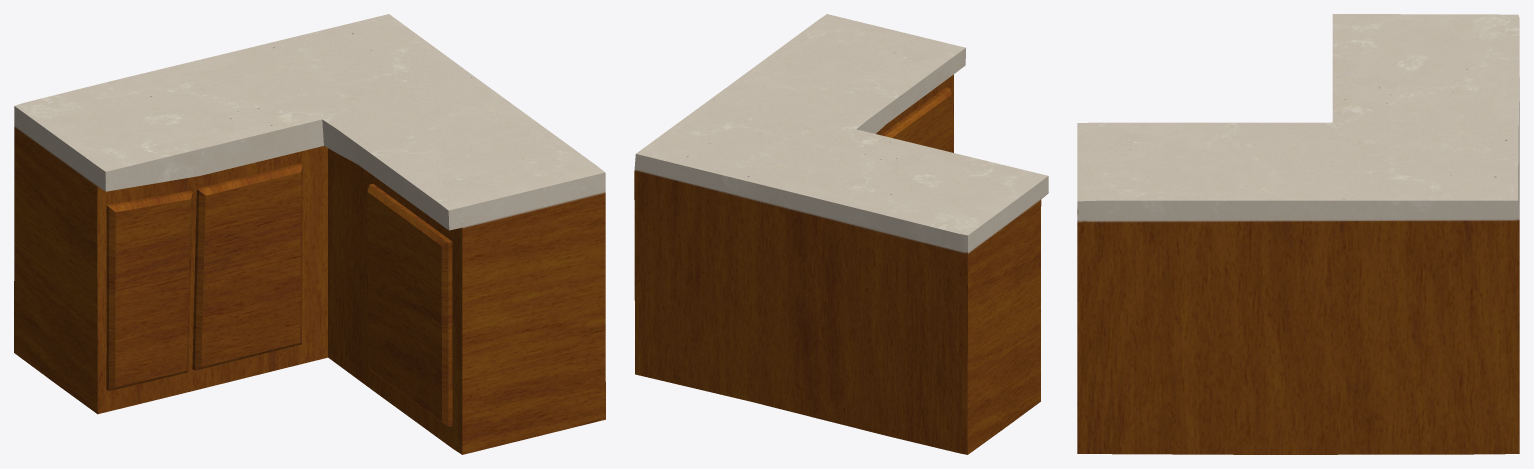
File: Counter7.fbx
3 renders of one model, left to right at view 1: azimuth 30°, elevation 25°; view 2: azimuth 150°, elevation 25°; view 3: azimuth 270°, elevation 25°, orthographic. The views are drawn at different scales.
Parts seen in each view (by area): view 1: Counter10:polySurface39countertop; view 2: Counter10:polySurface39countertop; view 3: Counter10:polySurface39countertop.
Part boxes in pixels (x1,y1,x2,y2): Counter10:polySurface39countertop: (14,14,605,454); Counter10:polySurface39countertop: (634,14,1048,454); Counter10:polySurface39countertop: (1077,14,1519,454).
Bounding box in the file's own units: 13 × 8.23 × 13.
